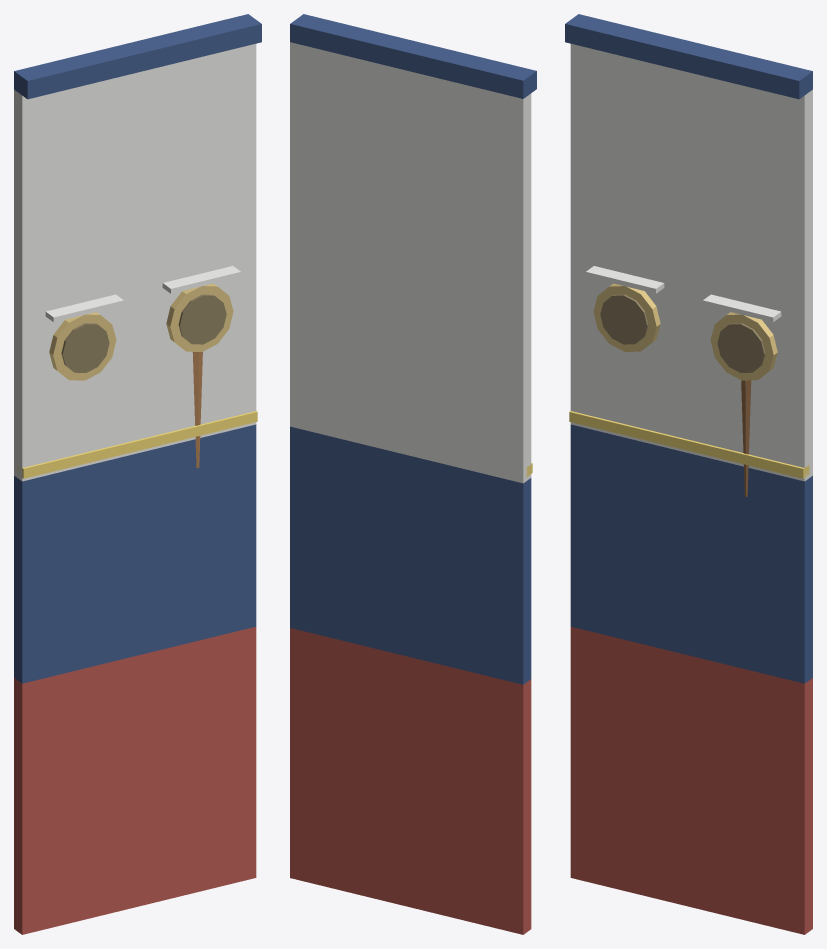
Rendered from CR_Casco_A.fbx.
3 views of the same model, side by side, from view 1: azimuth 30°, elevation 25°; view 2: azimuth 150°, elevation 25°; view 3: azimuth 330°, elevation 25° (orthographic).
Visible parts, largest first — view 1: CR_Casco_A; view 2: CR_Casco_A; view 3: CR_Casco_A.
Boxes of the visible parts, x1,y1,x2,y2 form: CR_Casco_A: (14, 14, 261, 934); CR_Casco_A: (290, 14, 536, 934); CR_Casco_A: (565, 14, 812, 934).
Bounding box in the file's own units: 2 × 7 × 0.24.
